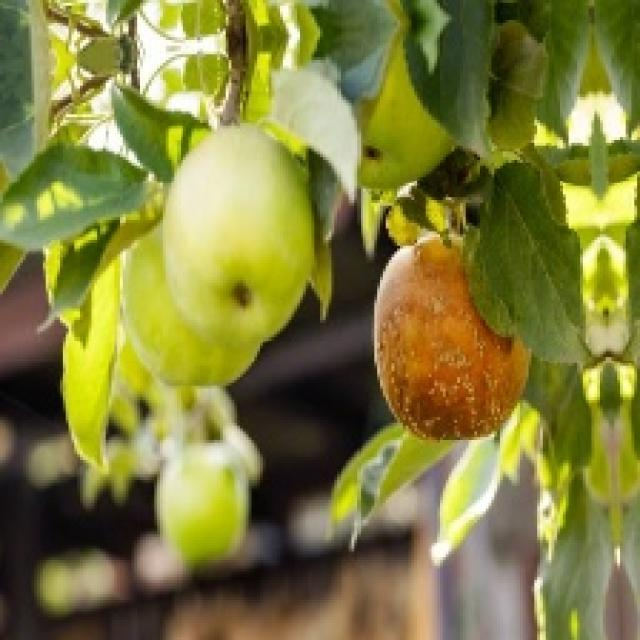rotten_apple: (381, 236, 524, 436)
